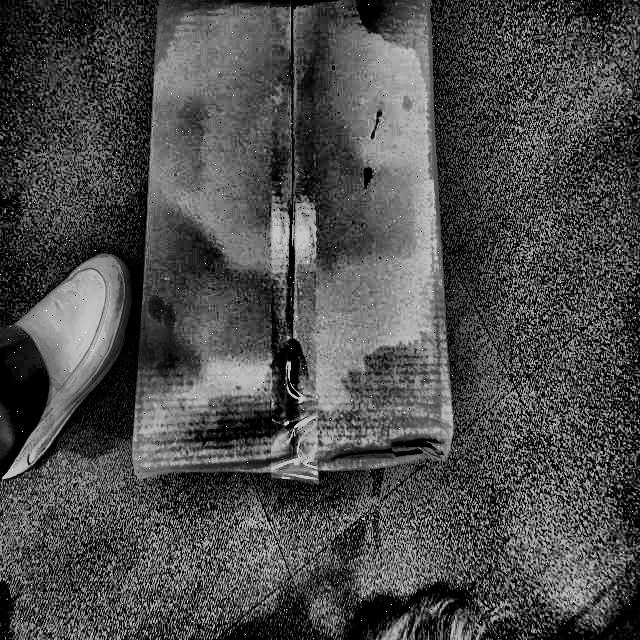box: (124, 1, 465, 486)
wet: (149, 327, 447, 471), (366, 0, 432, 66)
